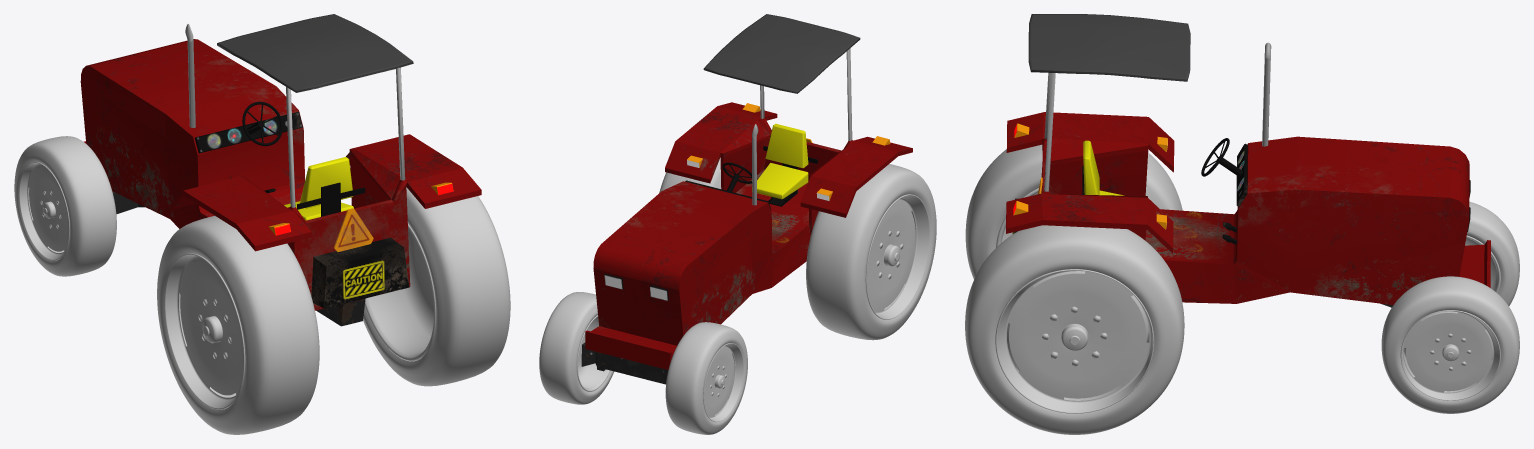
The model's file is FullTractor.fbx.
The picture shows the model from 3 angles, left to right: view 1: azimuth 30°, elevation 25°; view 2: azimuth 150°, elevation 25°; view 3: azimuth 270°, elevation 25°; orthographic projection. The views are drawn at different scales.
Parts seen in each view (by area): view 1: Tractor, Wheel_Tire.001, Wheel_Tire, Wheel_Tire.003; view 2: Tractor, Wheel_Tire.001, Wheel_Tire.003, Wheel_Tire.002, Wheel_Tire; view 3: Tractor, Wheel_Tire, Wheel_Tire.002, Wheel_Tire.001, Wheel_Tire.003.
Part boxes in pixels (x1,y1,x2,y2): Tractor: (80, 14, 481, 326); Wheel_Tire.001: (157, 215, 319, 434); Wheel_Tire: (363, 187, 510, 386); Wheel_Tire.003: (14, 136, 116, 276); Tractor: (581, 14, 912, 384); Wheel_Tire.001: (806, 164, 936, 340); Wheel_Tire.003: (665, 322, 747, 434); Wheel_Tire.002: (539, 292, 614, 404); Wheel_Tire: (659, 157, 721, 192); Tractor: (1006, 14, 1490, 307); Wheel_Tire: (965, 225, 1184, 434); Wheel_Tire.002: (1381, 276, 1519, 413); Wheel_Tire.001: (965, 144, 1182, 279); Wheel_Tire.003: (1465, 201, 1519, 305).
Bounding box in the file's own units: 423 × 530 × 783.
